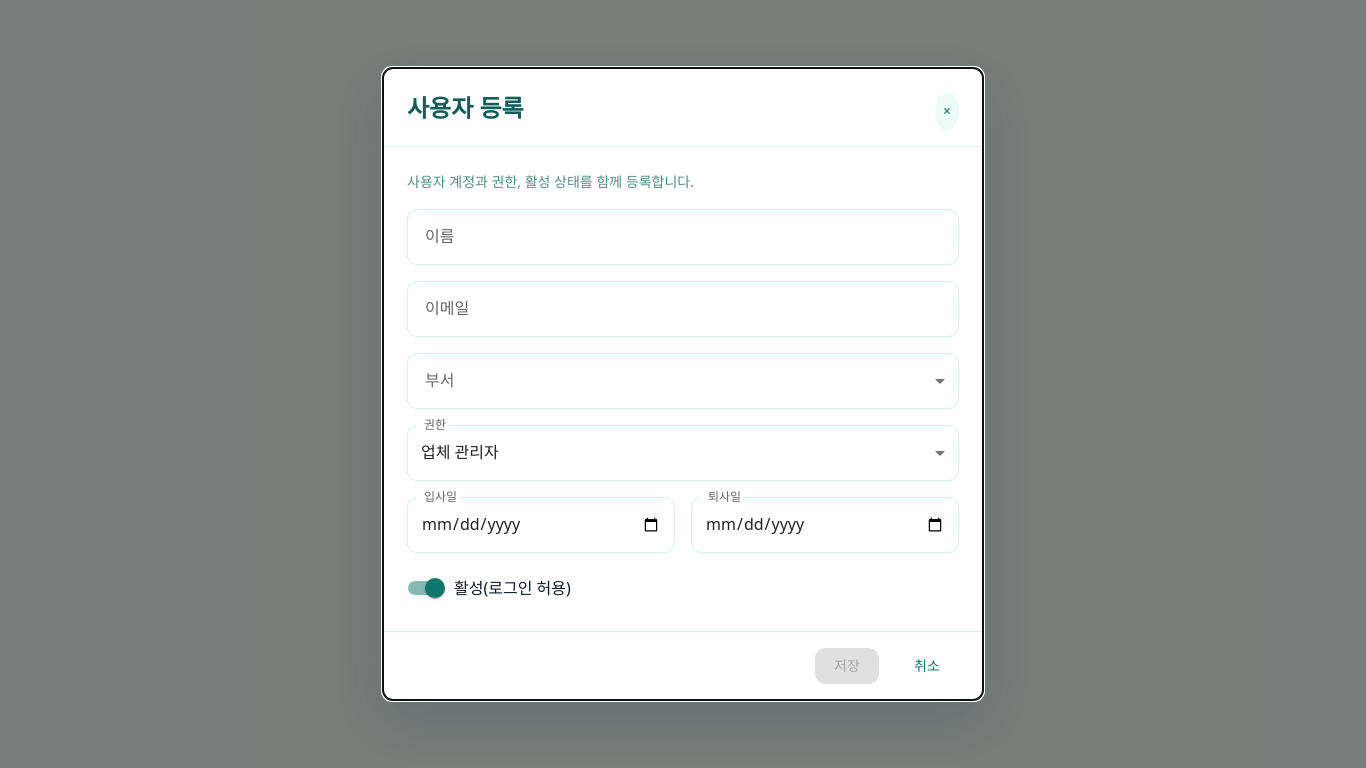
Test: UserFormDialog › uses a department select and save-cancel action order
The image size is (1366, 768).
Press the mouse on the dropdown named "부서": (683, 381) [407,353,959,409]
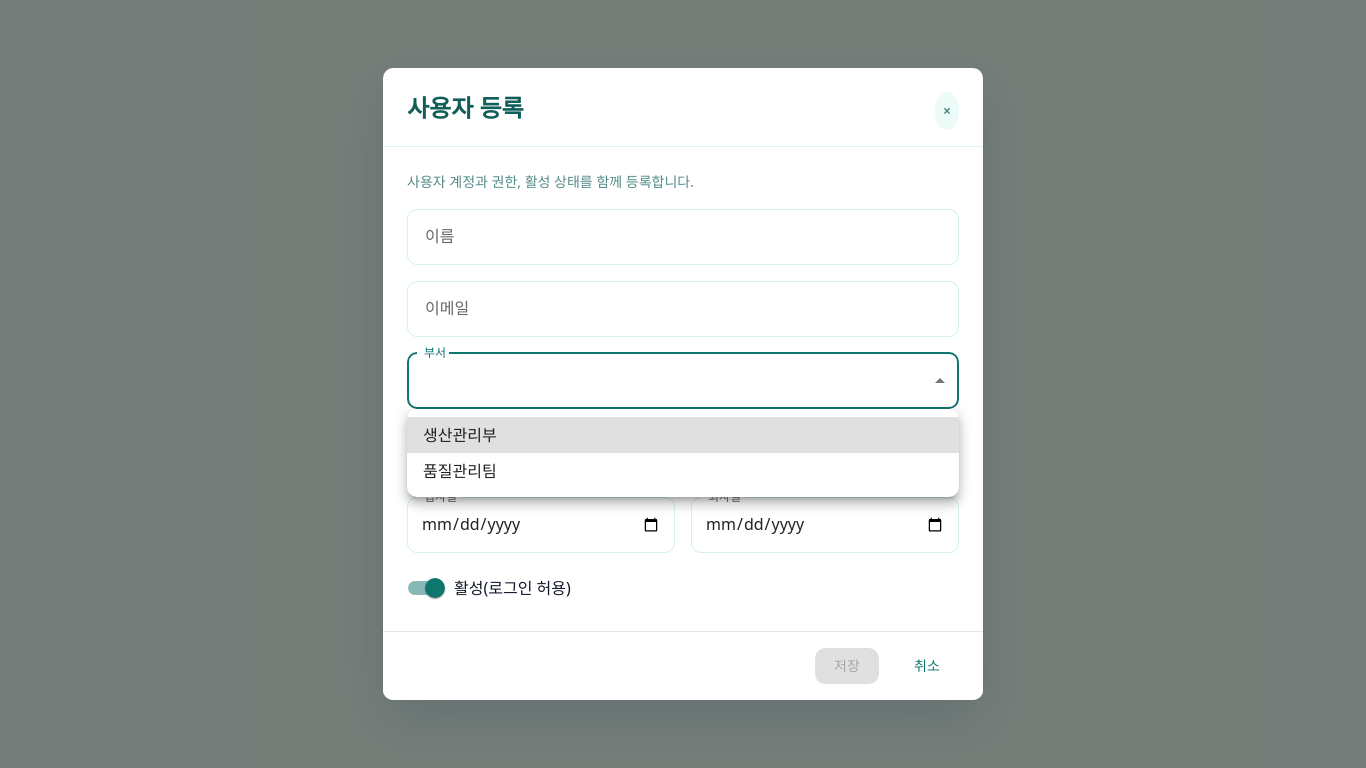
Expected: the option "생산관리부" is shown, [407,417,959,453]
